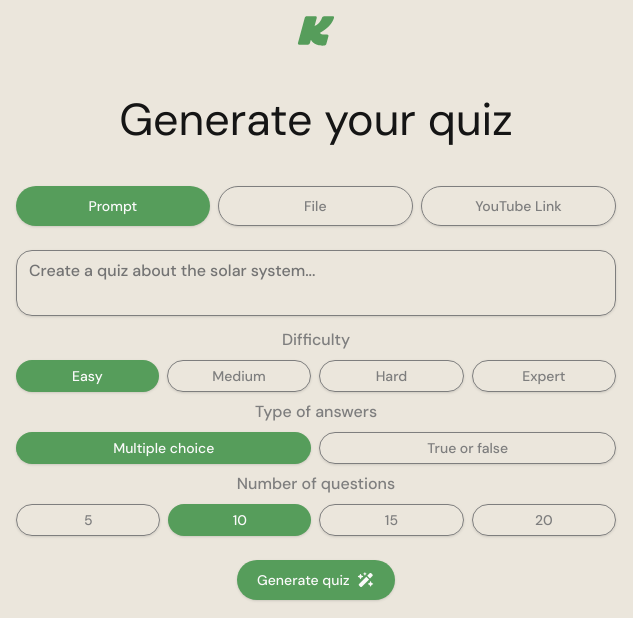
Scenario: Conditional rendering › should render file upload component when file option is selected
Click the radio button labelled "File". click: click(315, 206)
box: [218,186,413,226]
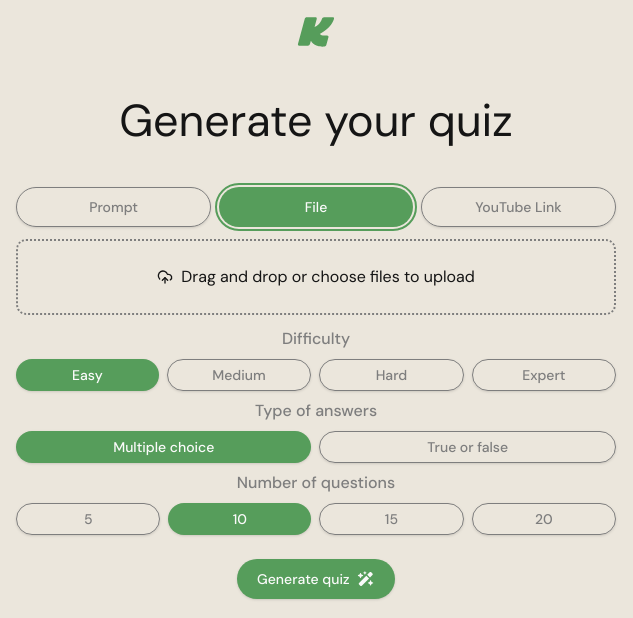
Expected: the text "Drag and drop or choose files to upload" is shown, [16,239,616,315]
